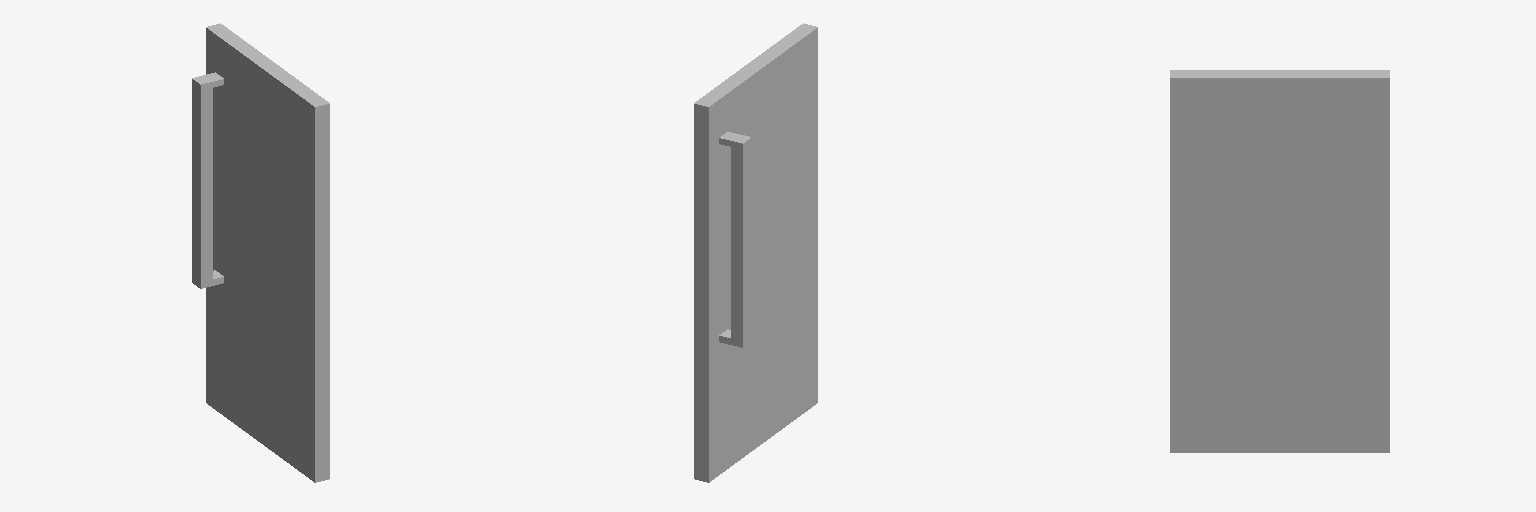
Rendered from AFRIDGE4.obj.
3 views of the same model, side by side, from view 1: azimuth 30°, elevation 25°; view 2: azimuth 150°, elevation 25°; view 3: azimuth 270°, elevation 25° (orthographic).
Visible parts, largest first — view 1: user; view 2: user; view 3: user.
Boxes of the visible parts, x1=… form: user: x1=192, y1=23, x2=329, y2=482; user: x1=694, y1=23, x2=817, y2=482; user: x1=1170, y1=70, x2=1389, y2=452.
Size of the model in its own units: 11.71 by 107 by 56.7.